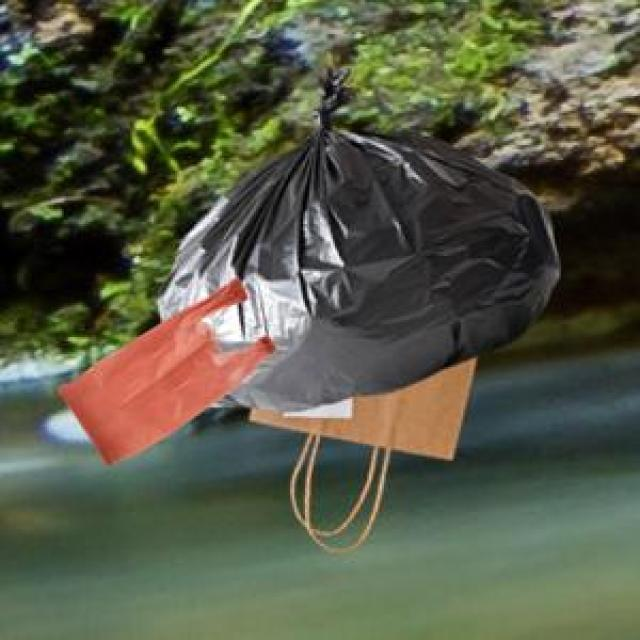miscellaneous trash: (154, 62, 555, 408)
paper: (246, 352, 472, 536)
